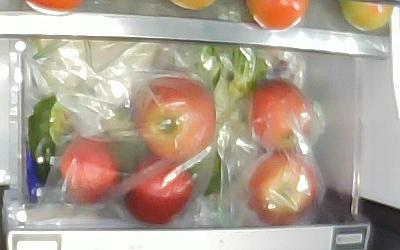apple_vinyl: (133, 77, 217, 162), (249, 153, 315, 226), (249, 79, 311, 151), (126, 159, 193, 224), (60, 137, 119, 205)
